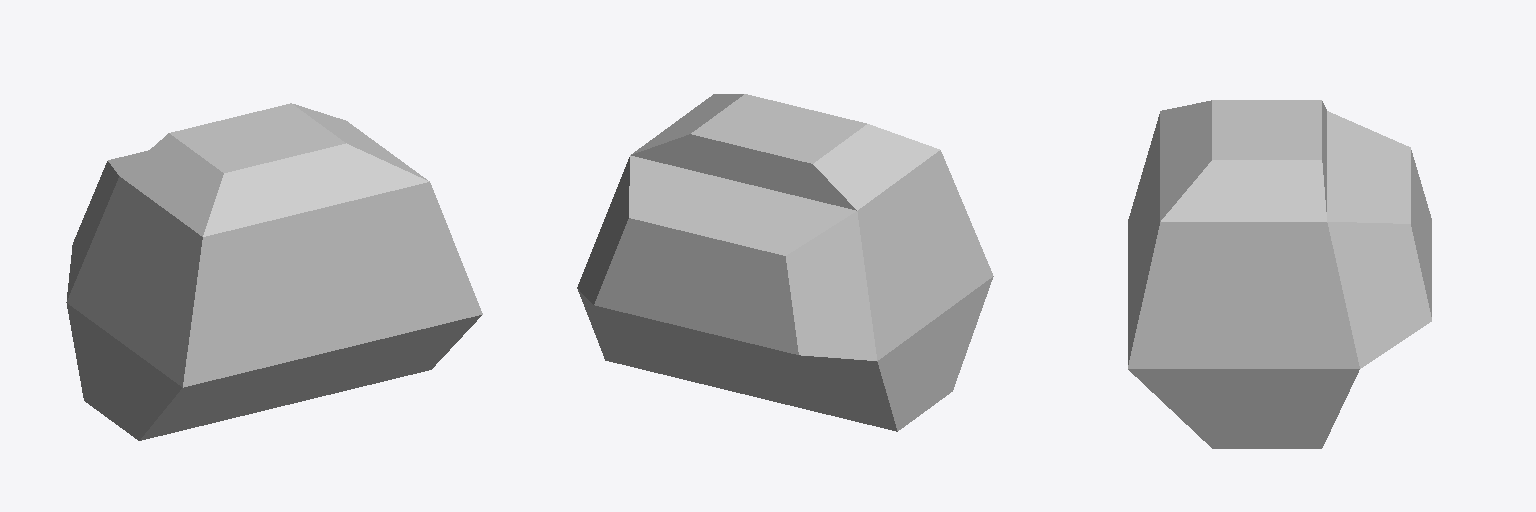
File: Trash8.obj
3 views of the same model, side by side, from view 1: azimuth 30°, elevation 25°; view 2: azimuth 150°, elevation 25°; view 3: azimuth 270°, elevation 25° (orthographic).
Parts seen in each view (by area): view 1: Trash8; view 2: Trash8; view 3: Trash8.
Part boxes in pixels (bbox=[...]): Trash8: bbox=[66, 103, 482, 440]; Trash8: bbox=[577, 94, 993, 431]; Trash8: bbox=[1128, 100, 1431, 448].
Bounding box in the file's own units: 3.11 × 2.44 × 2.72.